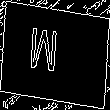M_S: (39, 27, 71, 83)
